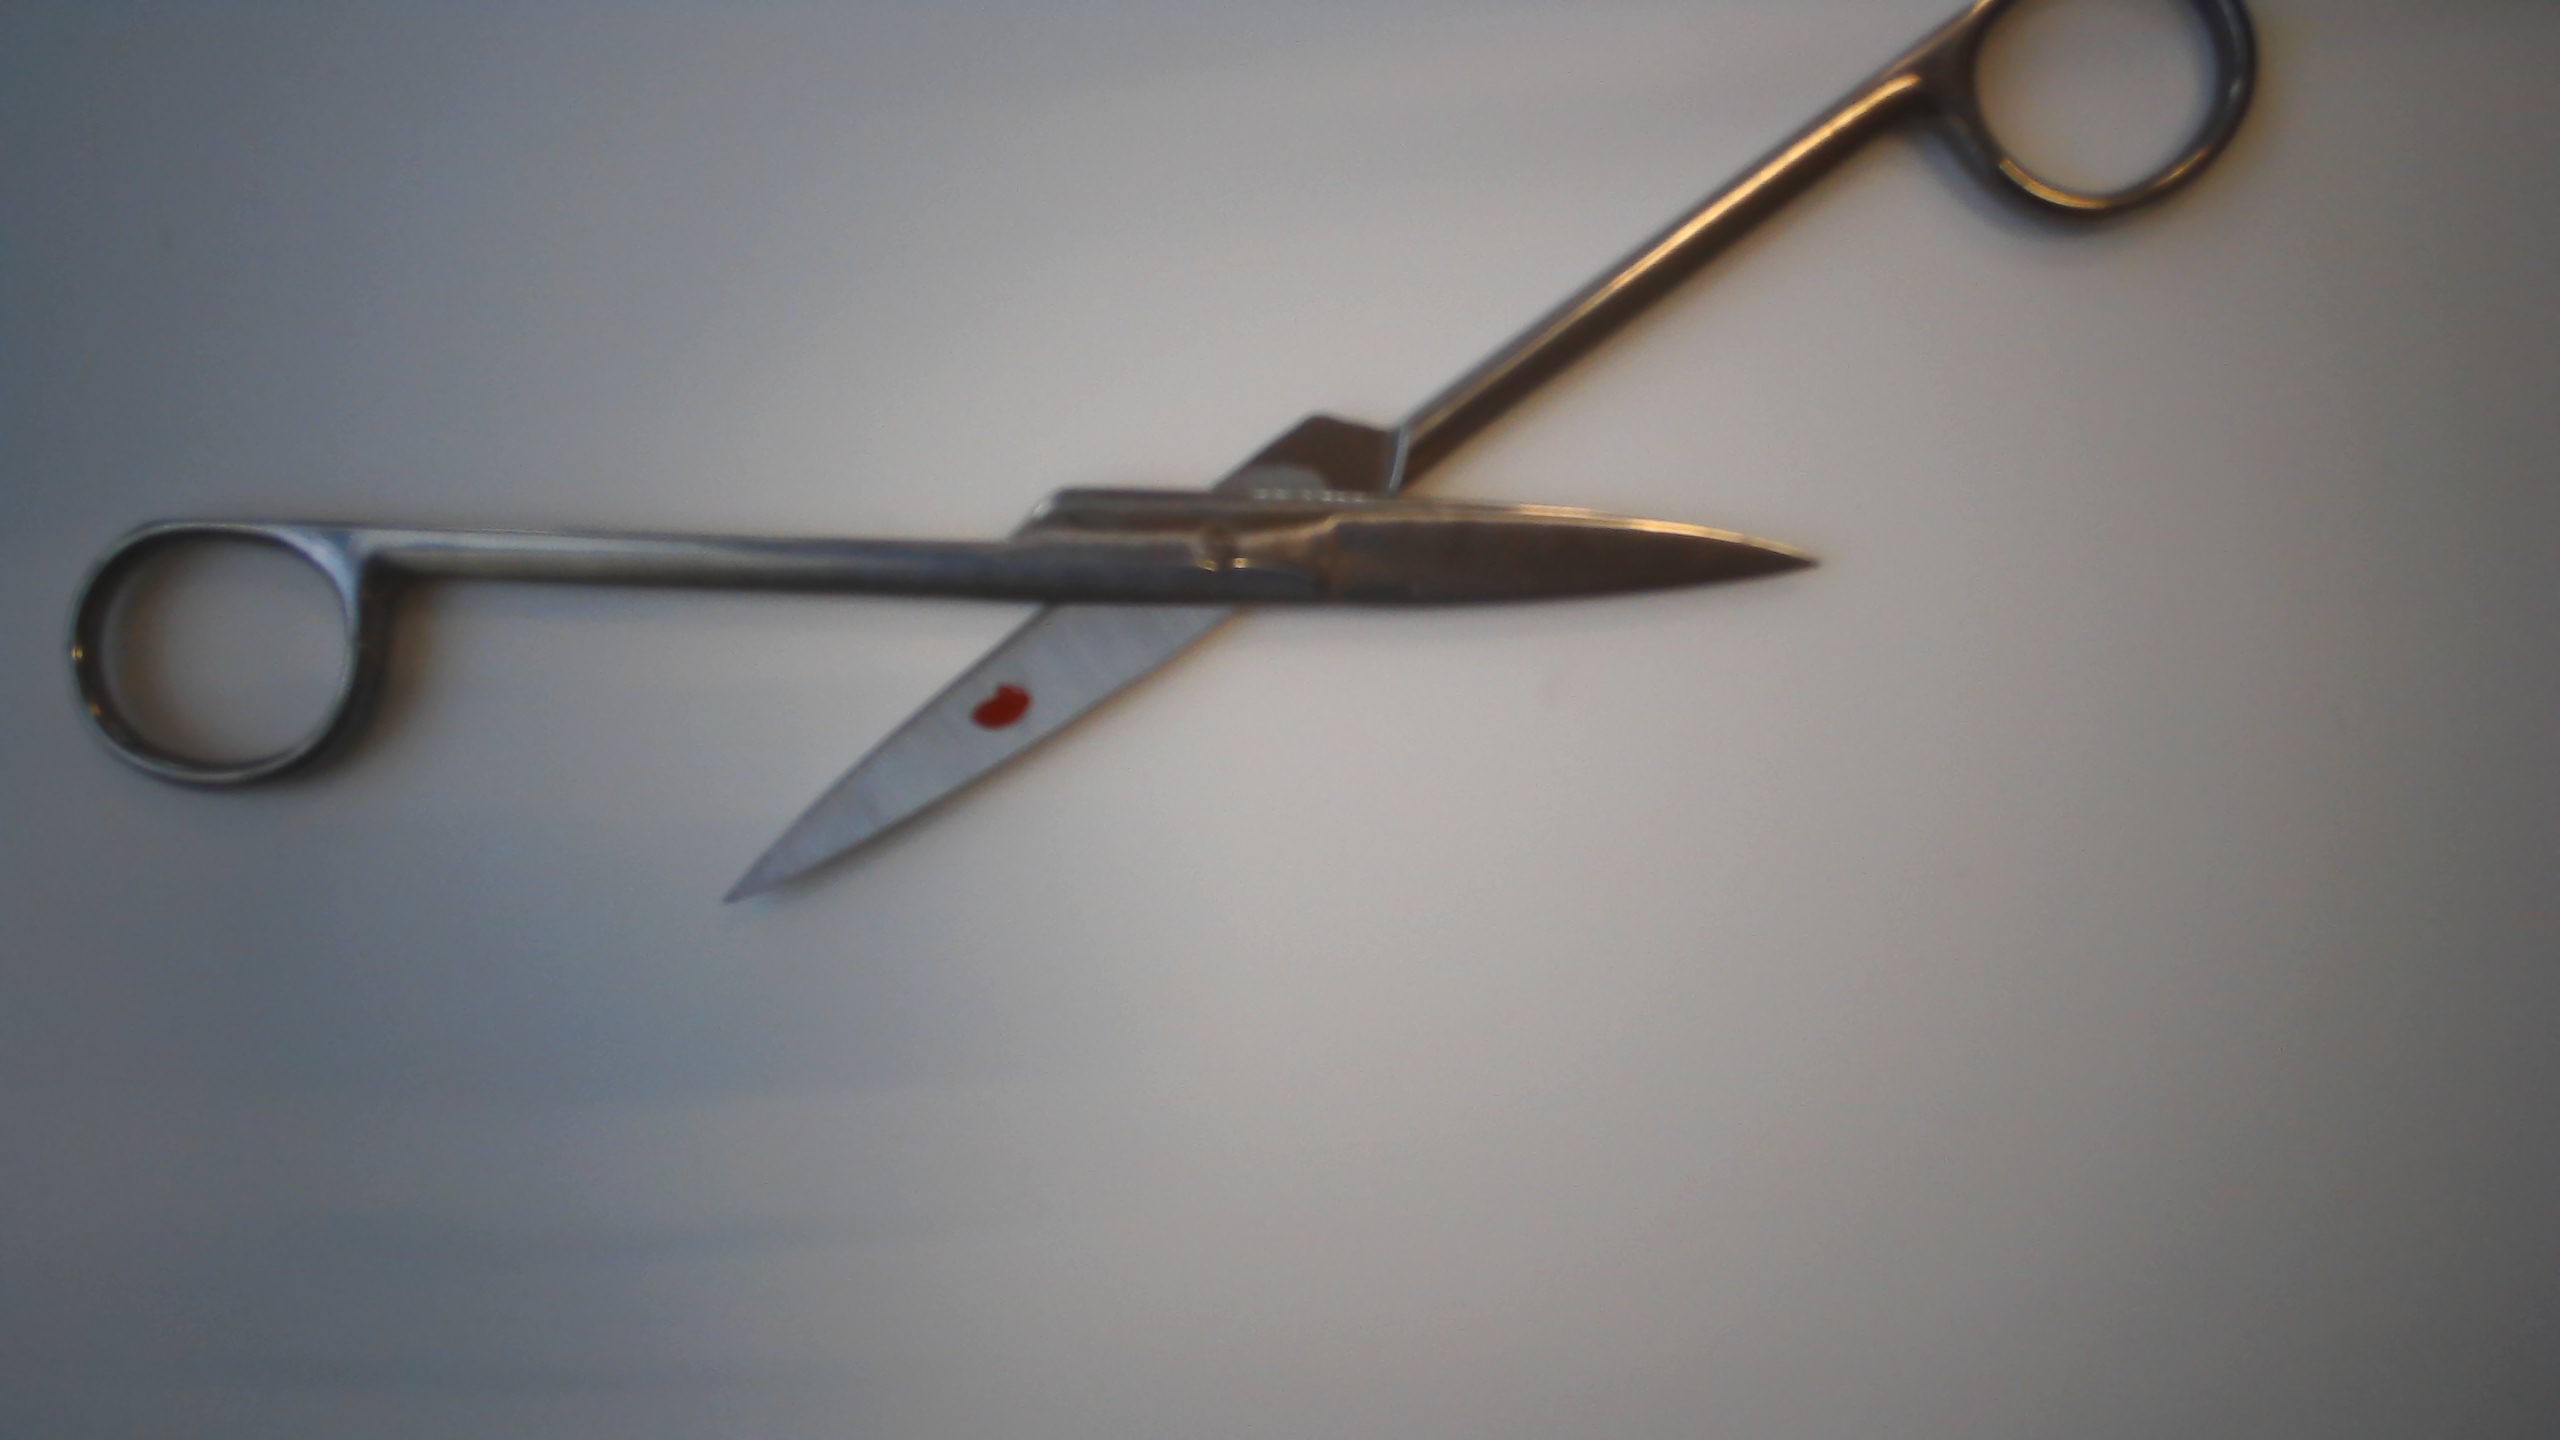Stain: (962, 672, 1041, 742)
